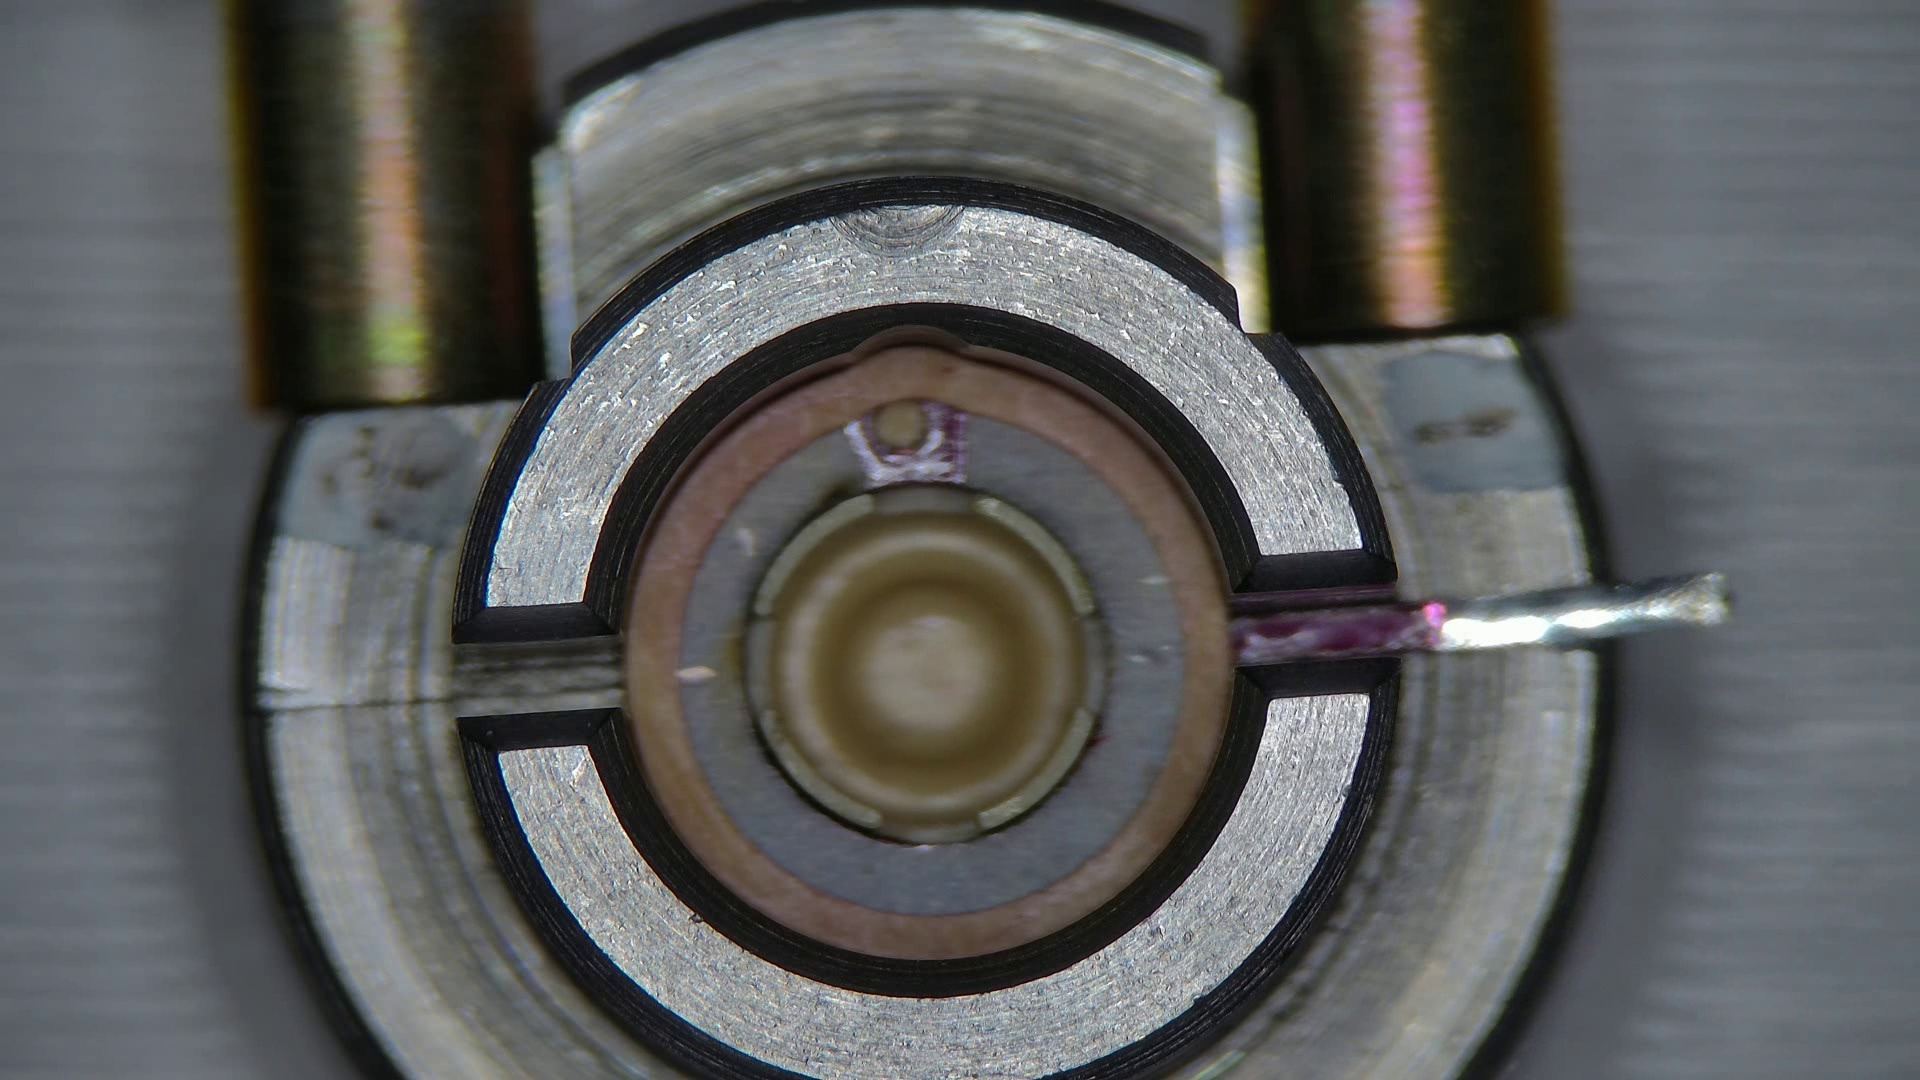GreyOring: (625, 344, 1230, 957)
YellowOring: (682, 401, 1182, 913)
